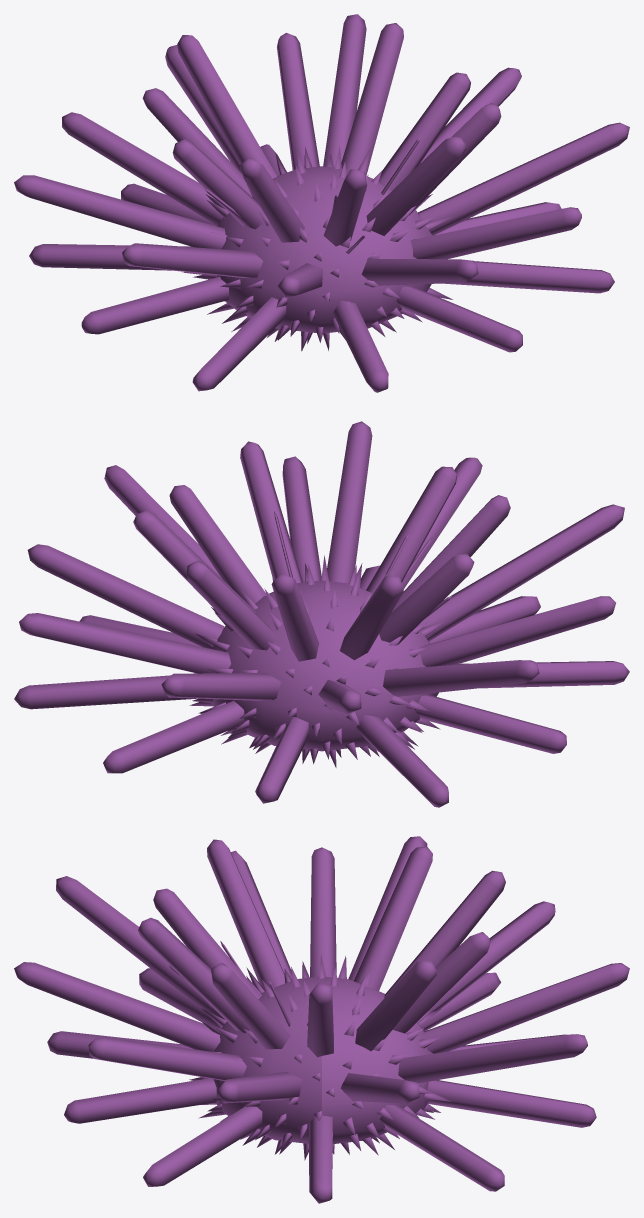
Rendered from sea_urchin_slate_pencil_game.glb.
3 views of the same model, one above another, from view 1: azimuth 30°, elevation 25°; view 2: azimuth 150°, elevation 25°; view 3: azimuth 270°, elevation 25° (orthographic). The views are drawn at different scales.
Parts seen in each view (by area): view 1: sea_urchin_slate_pencil_game; view 2: sea_urchin_slate_pencil_game; view 3: sea_urchin_slate_pencil_game.
Boxes of the visible parts, bbox=[...] form: sea_urchin_slate_pencil_game: bbox=[14, 14, 629, 392]; sea_urchin_slate_pencil_game: bbox=[14, 421, 629, 807]; sea_urchin_slate_pencil_game: bbox=[14, 836, 629, 1203].
Size of the model in its own units: 0.1708 by 0.0755 by 0.1738.
